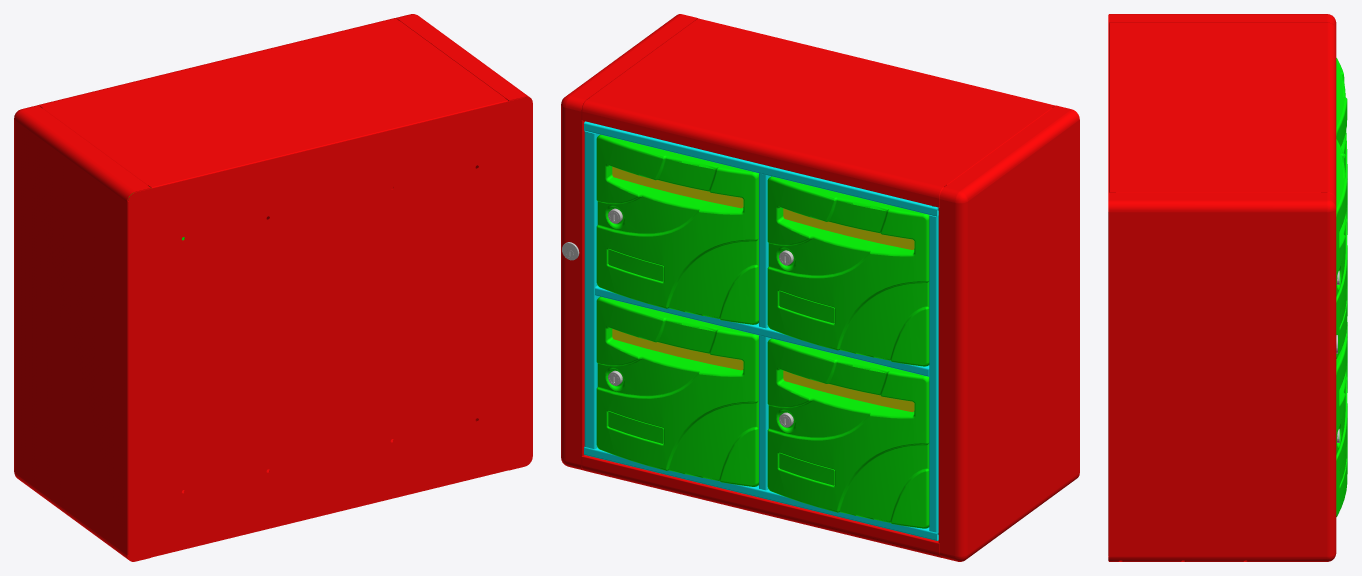
Rendered from elite_B4.glb.
3 renders of one model, left to right at view 1: azimuth 30°, elevation 25°; view 2: azimuth 150°, elevation 25°; view 3: azimuth 270°, elevation 25°, orthographic. The views are drawn at different scales.
Visible parts, largest first — view 1: empty_6, empty_2, empty_5, empty_3; view 2: empty_2, empty_5, empty_47, empty_35, empty_41, empty_29, empty_3, empty_7, empty_22, empty_19, empty_21, empty_26 (+10 smaller); view 3: empty_3, empty_5, empty_41, empty_2, empty_47, empty_29, empty_6.
Part boxes in pixels (bbox=[...]): empty_6: bbox=[127, 97, 532, 561]; empty_2: bbox=[14, 105, 150, 561]; empty_5: bbox=[38, 18, 507, 188]; empty_3: bbox=[396, 14, 532, 470]; empty_2: bbox=[938, 105, 1079, 561]; empty_5: bbox=[581, 18, 1054, 207]; empty_47: bbox=[596, 296, 758, 486]; empty_35: bbox=[767, 338, 929, 528]; empty_41: bbox=[596, 134, 758, 324]; empty_29: bbox=[767, 176, 929, 366]; empty_3: bbox=[561, 14, 697, 470]; empty_7: bbox=[581, 455, 941, 557]; empty_22: bbox=[584, 121, 599, 454]; empty_19: bbox=[585, 121, 938, 216]; empty_21: bbox=[929, 215, 938, 532]; empty_26: bbox=[759, 173, 770, 490]; empty_3: bbox=[1109, 192, 1336, 561]; empty_5: bbox=[1109, 22, 1336, 199]; empty_41: bbox=[1336, 139, 1347, 358]; empty_2: bbox=[1109, 14, 1336, 29]; empty_47: bbox=[1336, 337, 1347, 516]; empty_29: bbox=[1336, 58, 1347, 234]; empty_6: bbox=[1108, 14, 1108, 561].
Bounding box in the file's own units: 732 × 638 × 383.
